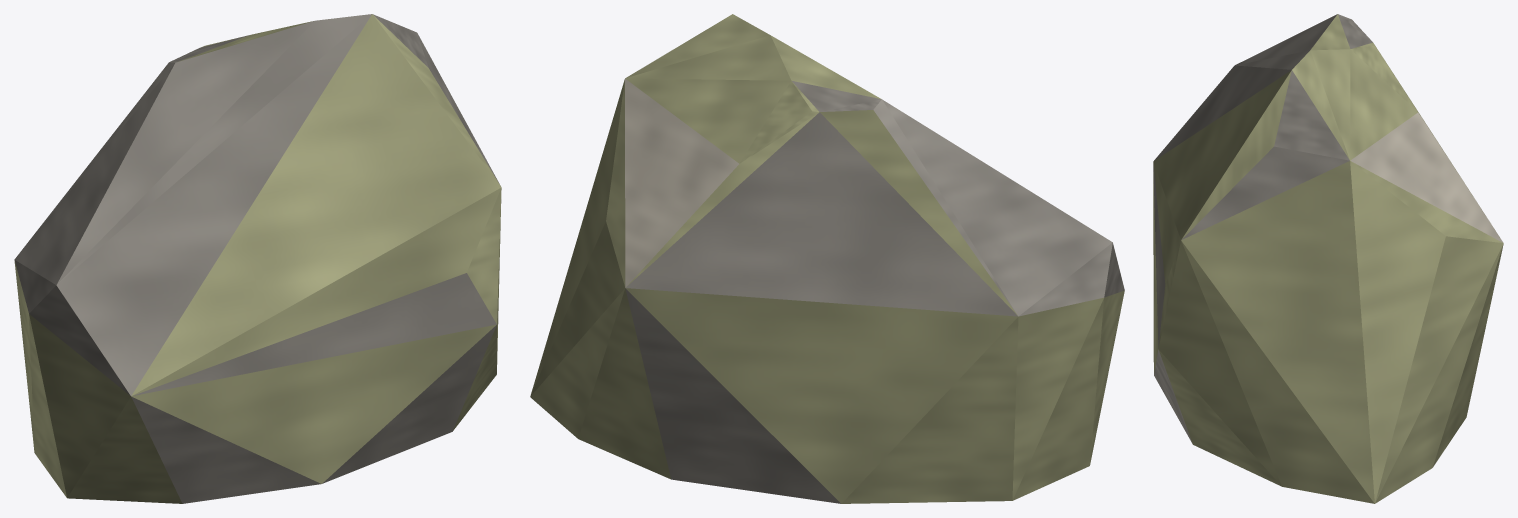
File: rock_small_03.fbx
3 renders of one model, left to right at view 1: azimuth 30°, elevation 25°; view 2: azimuth 150°, elevation 25°; view 3: azimuth 270°, elevation 25°, orthographic. The views are drawn at different scales.
Visible parts, largest first — view 1: rock_small_03; view 2: rock_small_03; view 3: rock_small_03.
Part boxes in pixels (x1,y1,x2,y2): rock_small_03: (14, 14, 501, 503); rock_small_03: (530, 14, 1124, 503); rock_small_03: (1153, 14, 1503, 503).
Bounding box in the file's own units: 0.6312 × 0.454 × 0.3982.
